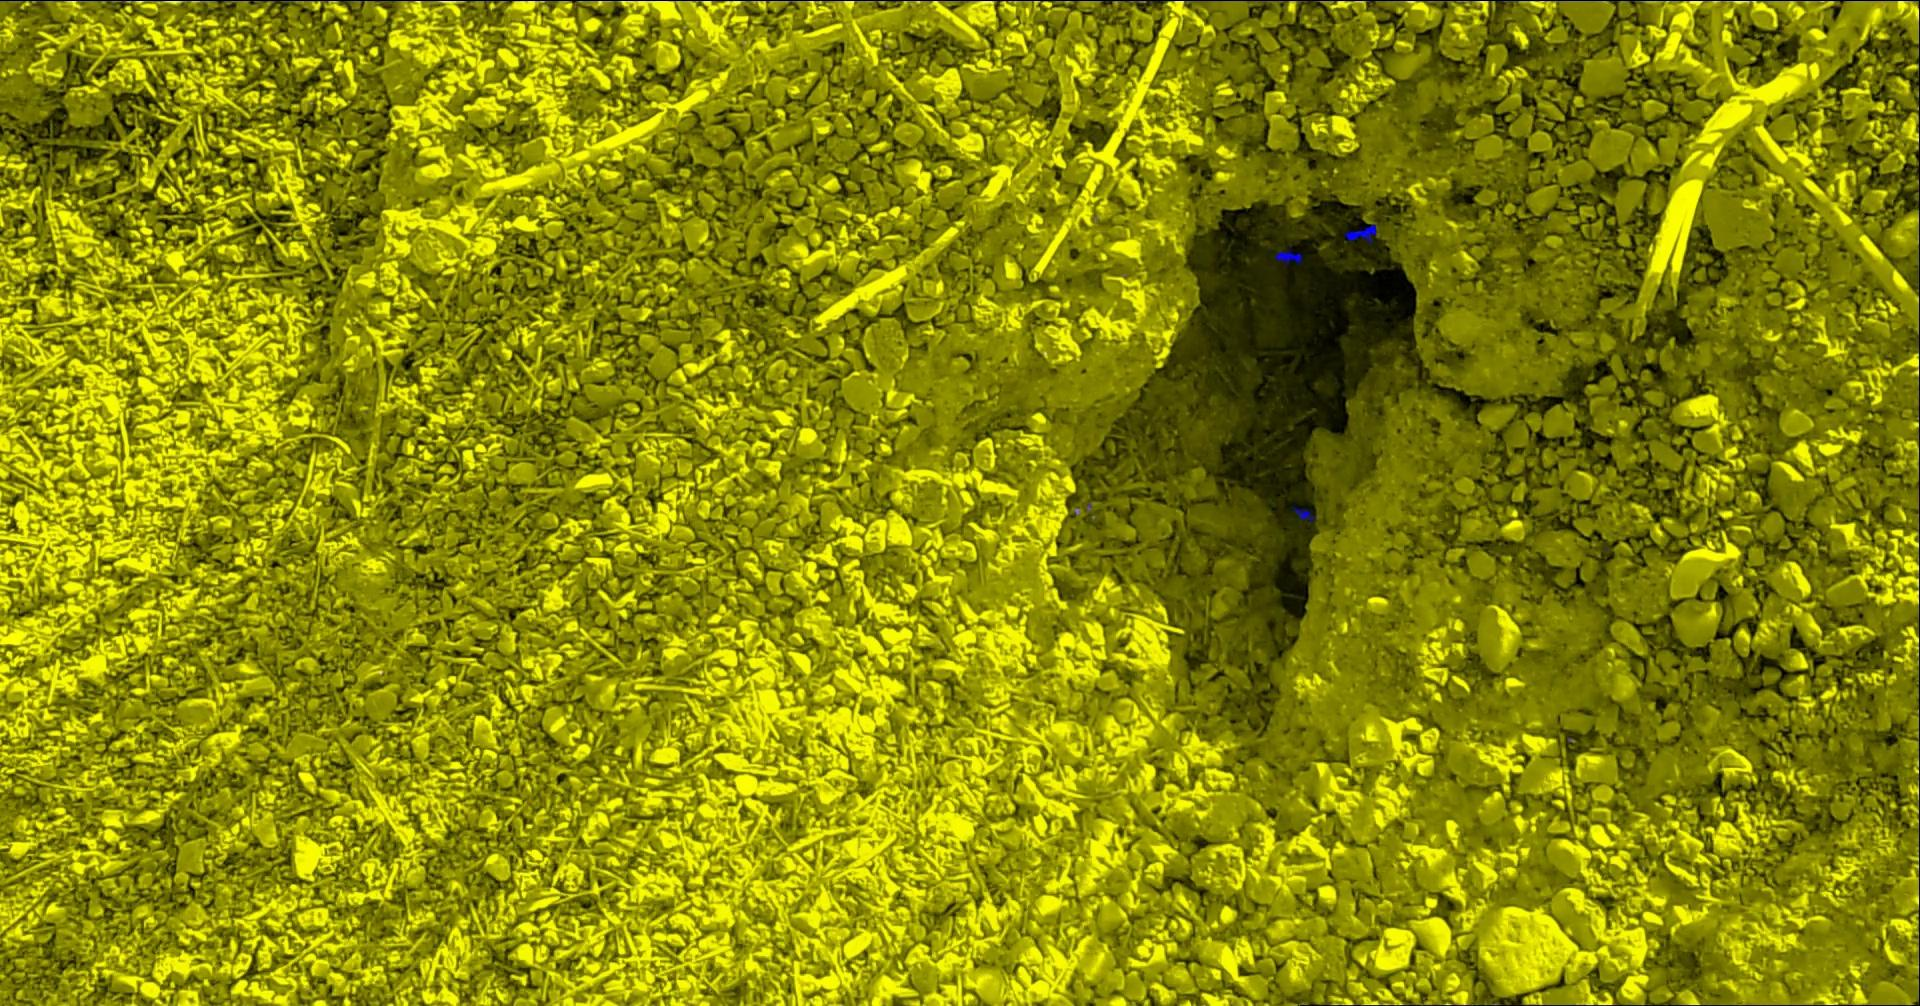ant: (1346, 222, 1378, 243), (1276, 246, 1303, 263), (1294, 506, 1317, 522)
